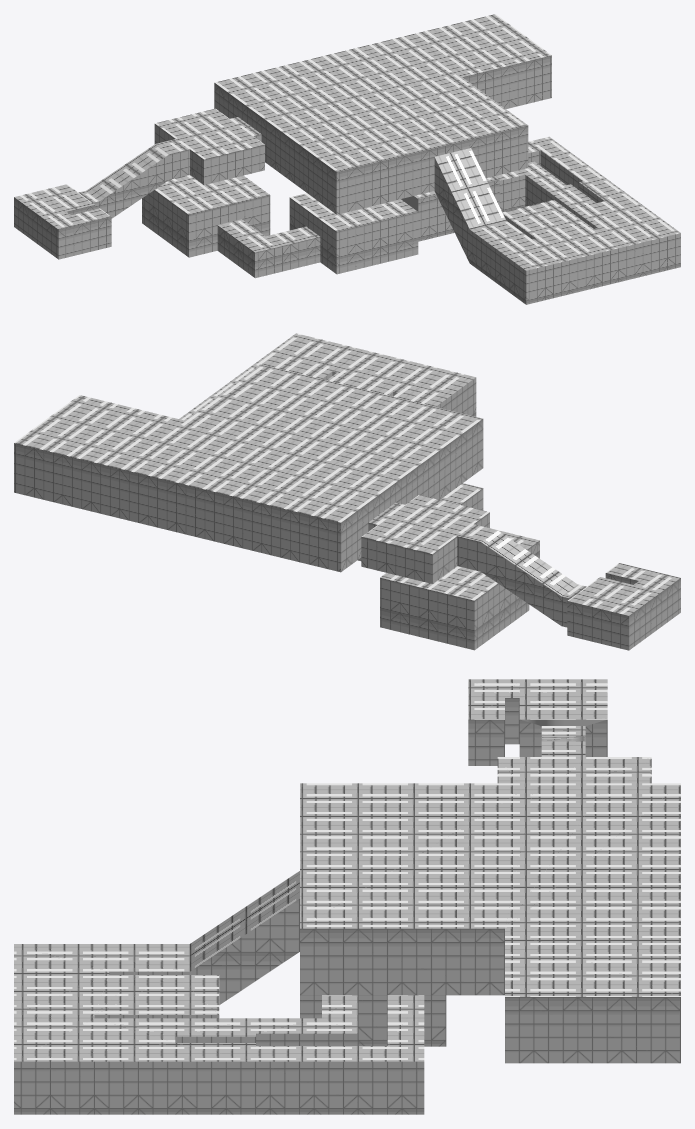
The model's file is warehouse.glb.
3 renders of one model, top to bottom at view 1: azimuth 30°, elevation 25°; view 2: azimuth 150°, elevation 25°; view 3: azimuth 270°, elevation 25°, orthographic. The views are drawn at different scales.
Visible parts, largest first — view 1: warehouse; view 2: warehouse; view 3: warehouse.
Part boxes in pixels (box(x1,y1,x2,y2)): warehouse: box(14, 14, 680, 304); warehouse: box(14, 333, 680, 650); warehouse: box(14, 679, 680, 1114).
Bounding box in the file's own units: 124 × 24 × 91.
3 materials, 3 textured.
